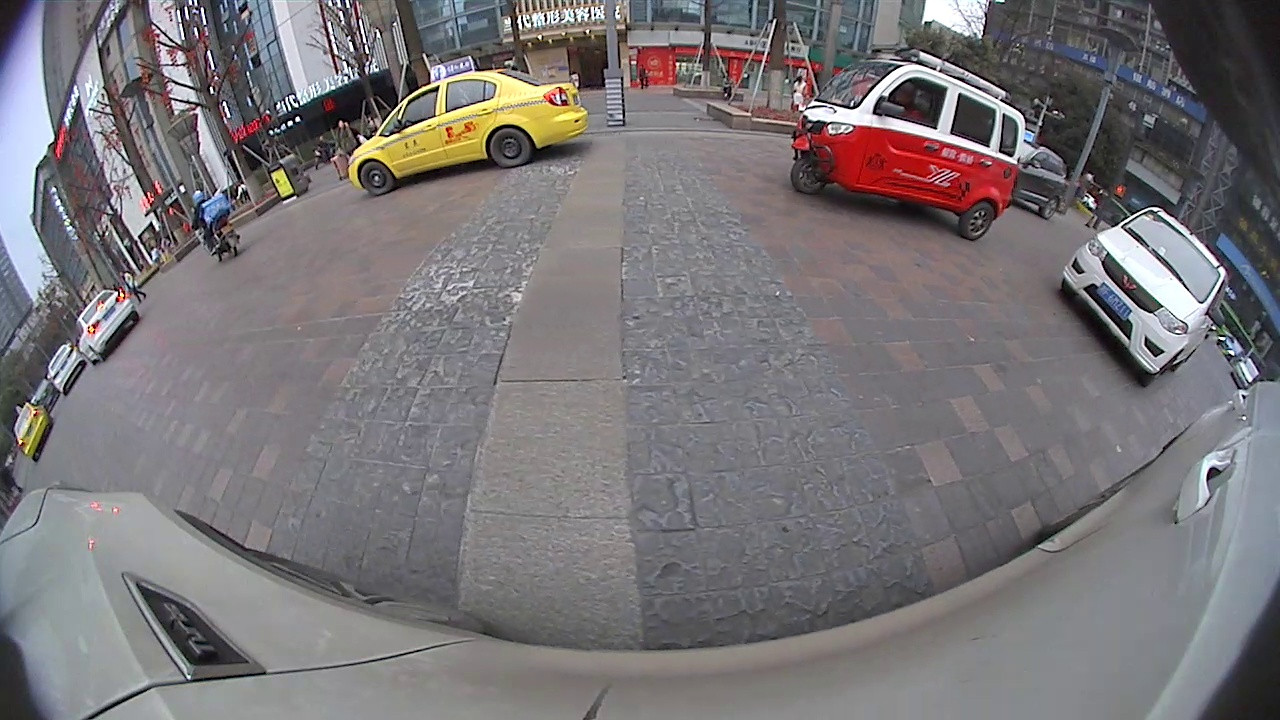car: (346, 55, 591, 197), (1060, 205, 1230, 388), (75, 287, 142, 365), (1009, 142, 1070, 221), (12, 401, 56, 463), (45, 343, 89, 398)
front: (789, 155, 828, 198), (357, 160, 393, 197)
rear: (485, 124, 535, 171), (961, 199, 996, 243)
rider: (789, 47, 1027, 242), (189, 186, 243, 264)
